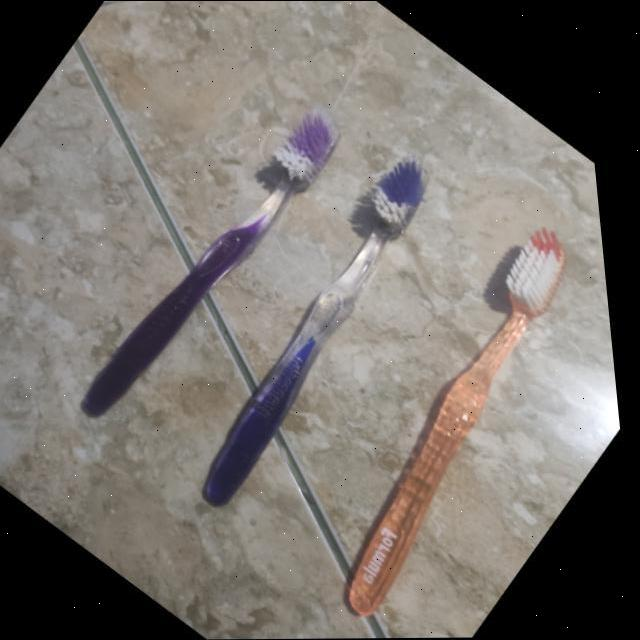toothbrush: (248, 209, 640, 639), (121, 139, 518, 557), (36, 79, 397, 467)
